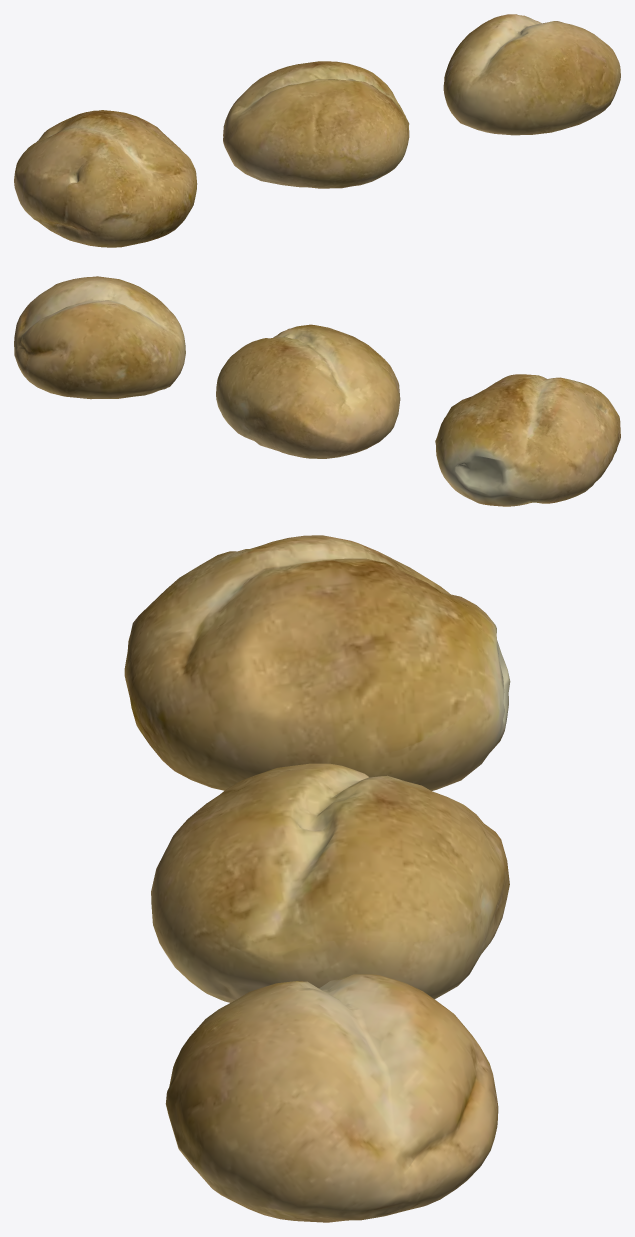
File: hamburger_buns-BYeRqeS1.glb
3 renders of one model, top to bottom at view 1: azimuth 30°, elevation 25°; view 2: azimuth 150°, elevation 25°; view 3: azimuth 270°, elevation 25°, orthographic. The views are drawn at different scales.
Parts seen in each view (by area): view 1: hamburger_buns_01; view 2: hamburger_buns_01; view 3: hamburger_buns_01.
Part boxes in pixels (bbox=[...]): hamburger_buns_01: bbox=[14, 14, 620, 247]; hamburger_buns_01: bbox=[14, 276, 620, 506]; hamburger_buns_01: bbox=[124, 535, 510, 1222].
Size of the model in its own units: 0.3972 by 0.0634 by 0.1138.
1 material, 1 textured.
